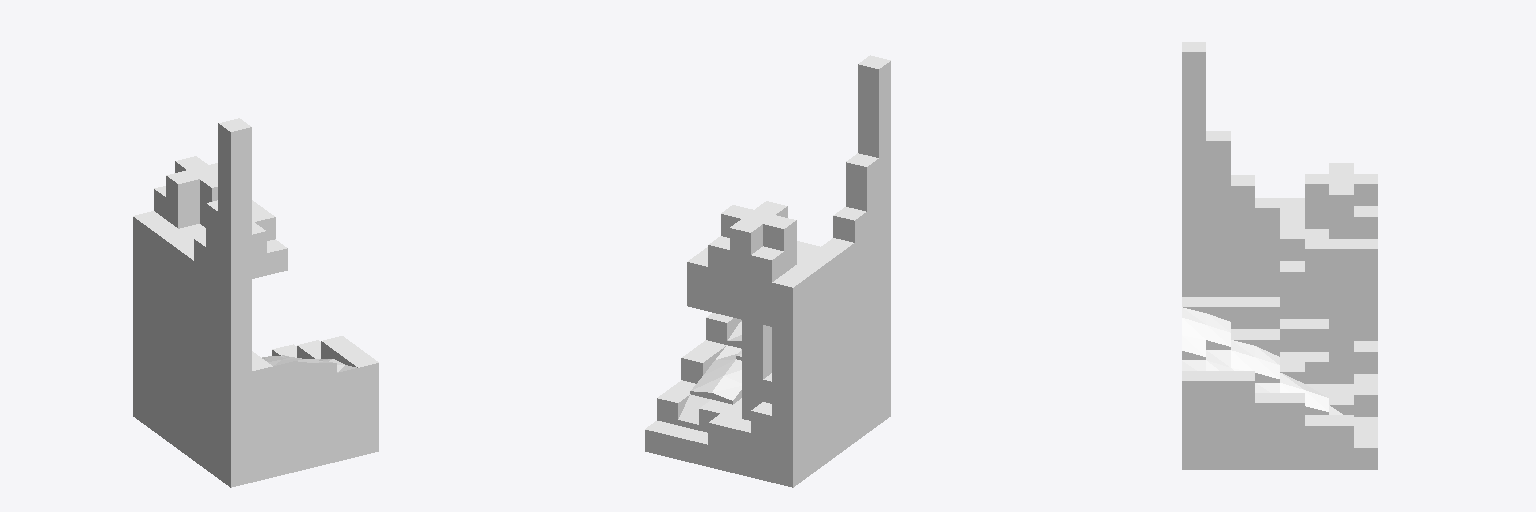
Rendered from mineways.obj.
3 views of the same model, side by side, from view 1: azimuth 30°, elevation 25°; view 2: azimuth 150°, elevation 25°; view 3: azimuth 270°, elevation 25° (orthographic).
Parts seen in each view (by area): view 1: New_World__259_105_0_to_265_319_7; view 2: New_World__259_105_0_to_265_319_7; view 3: New_World__259_105_0_to_265_319_7.
Part boxes in pixels (x1,y1,x2,y2): New_World__259_105_0_to_265_319_7: (133,118,378,487); New_World__259_105_0_to_265_319_7: (645,55,890,487); New_World__259_105_0_to_265_319_7: (1182,42,1377,469).
Size of the model in its own units: 1.05 by 2.4 by 1.2.